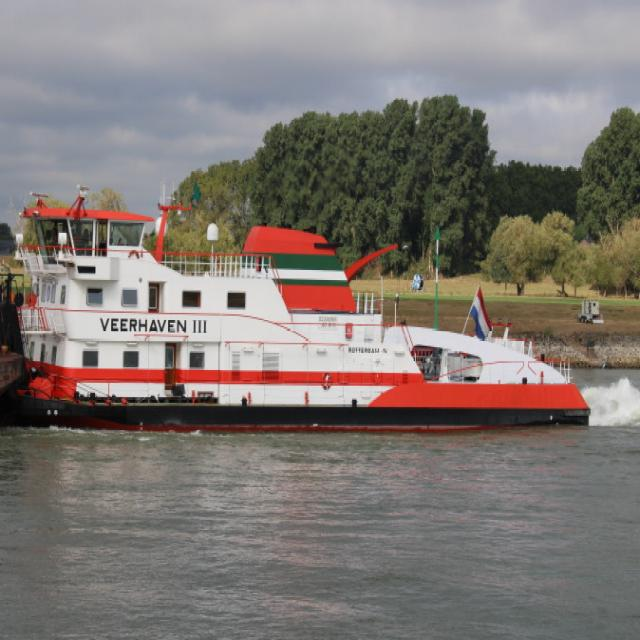tugboat: (1, 175, 596, 443)
